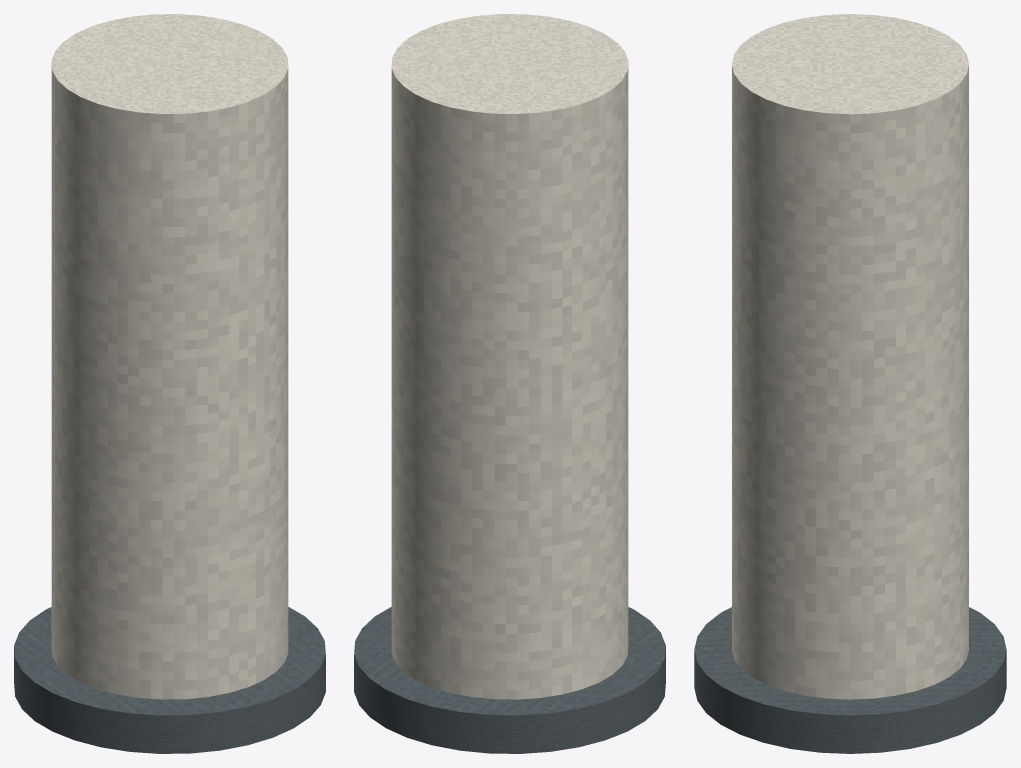
Rendered from heater.glb.
3 views of the same model, side by side, from view 1: azimuth 30°, elevation 25°; view 2: azimuth 150°, elevation 25°; view 3: azimuth 270°, elevation 25° (orthographic).
Visible parts, largest first — view 1: tube, base; view 2: tube, base; view 3: tube, base.
Part boxes in pixels (<box>): tube: <box>51,14,288,699</box>; base: <box>14,607,325,753</box>; tube: <box>391,14,628,699</box>; base: <box>354,607,665,753</box>; tube: <box>732,14,968,699</box>; base: <box>694,607,1006,753</box>.
Bounding box in the file's own units: 0.55 × 1.21 × 0.55.
2 materials, 2 textured.
